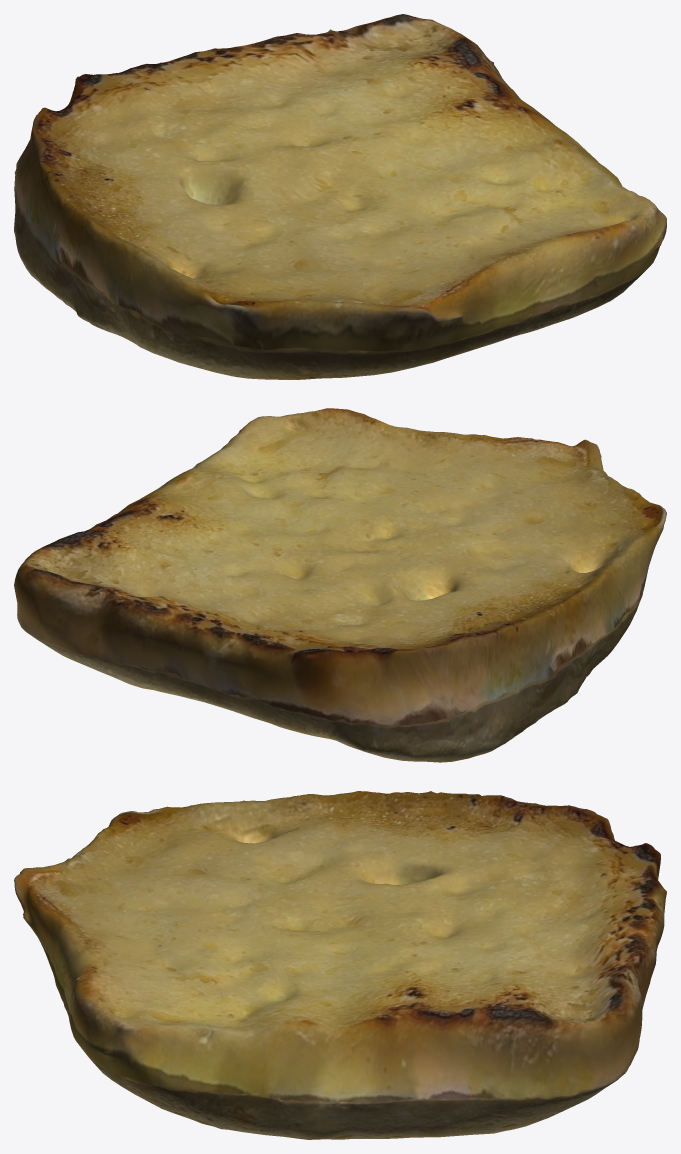
Rendered from bun-bottom.glb.
3 renders of one model, top to bottom at view 1: azimuth 30°, elevation 25°; view 2: azimuth 150°, elevation 25°; view 3: azimuth 270°, elevation 25°, orthographic. The views are drawn at different scales.
Visible parts, largest first — view 1: bun-bottom; view 2: bun-bottom; view 3: bun-bottom.
Part boxes in pixels (bbox=[...]): bun-bottom: bbox=[14, 14, 666, 379]; bun-bottom: bbox=[14, 408, 666, 762]; bun-bottom: bbox=[14, 791, 666, 1139].
Size of the model in its own units: 8.5 by 2.3 by 9.23.
1 material, 1 textured.
